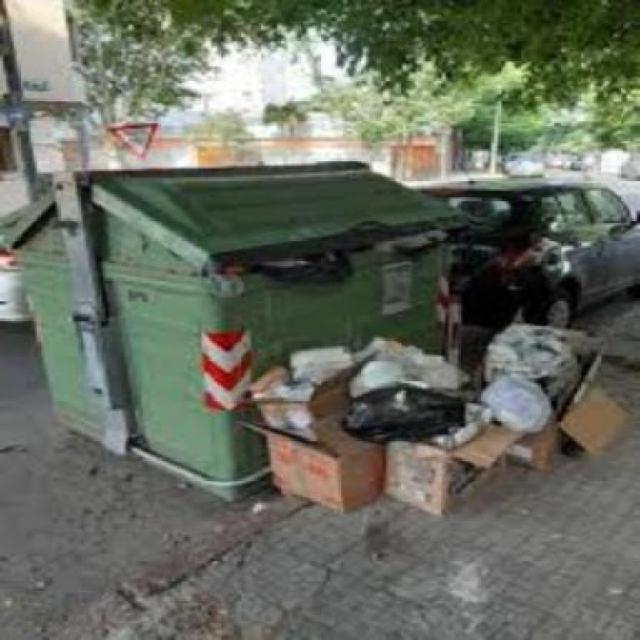garbage: (248, 337, 640, 511), (246, 249, 386, 294)
